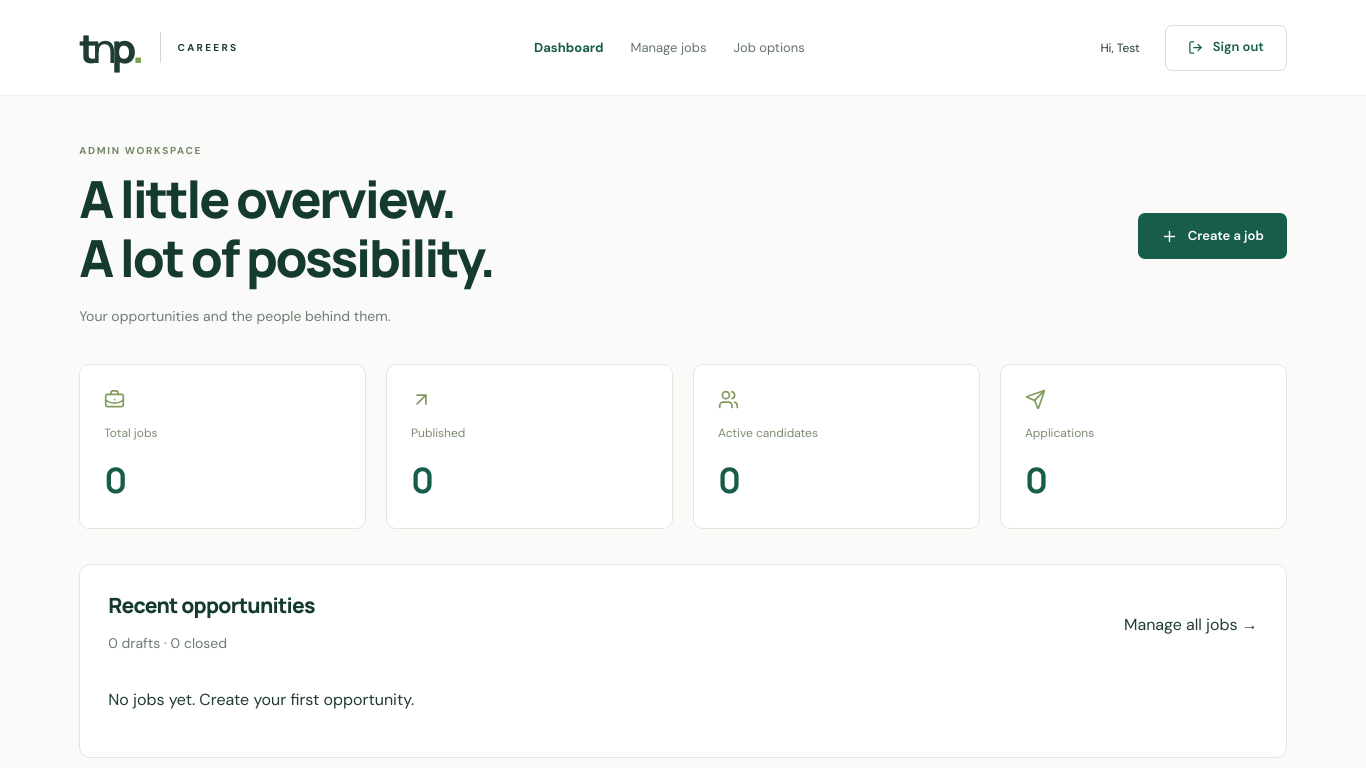
Scenario: signing out removes admin links from both header and footer
The image size is (1366, 768).
Click the button "Sign out" at [1226, 48], box [1165,24,1287,70]
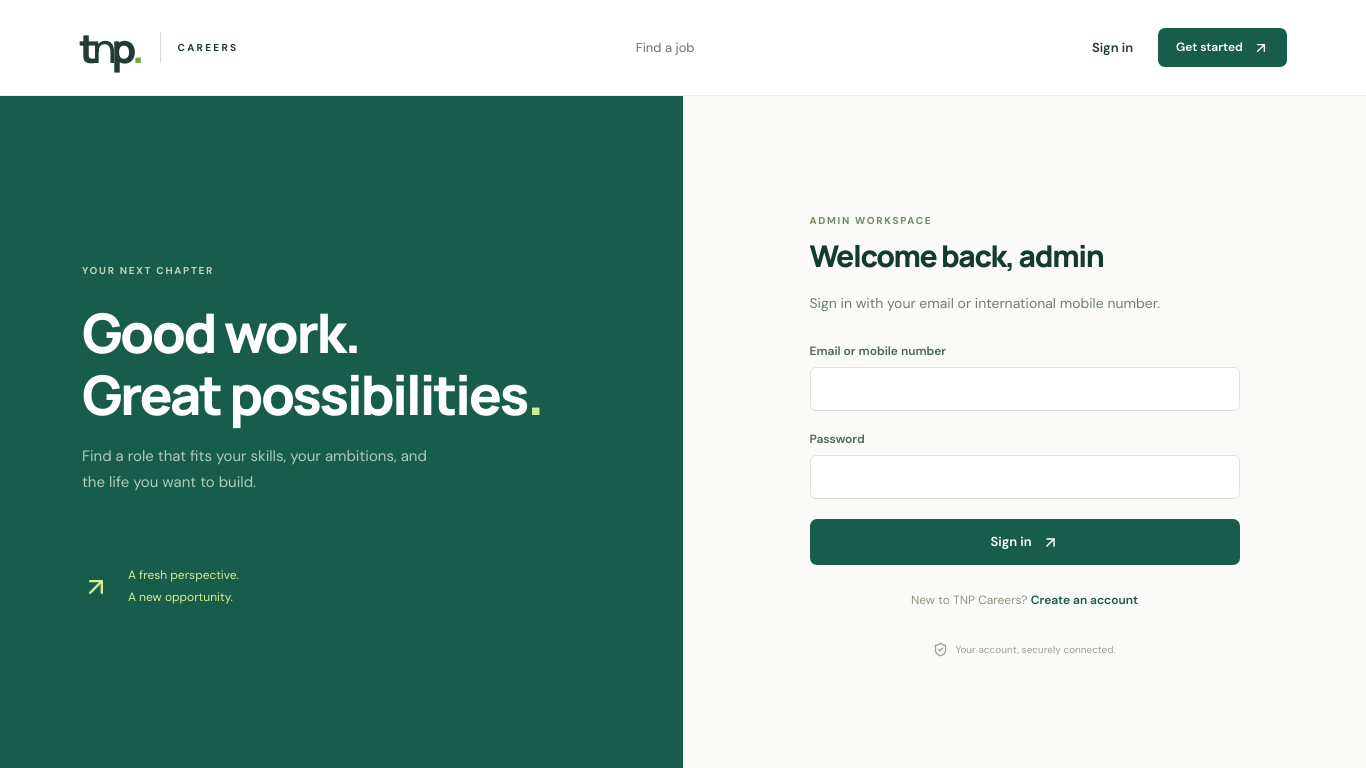
Expected: the link "Sign in" is shown, [1092,39,1133,56]
